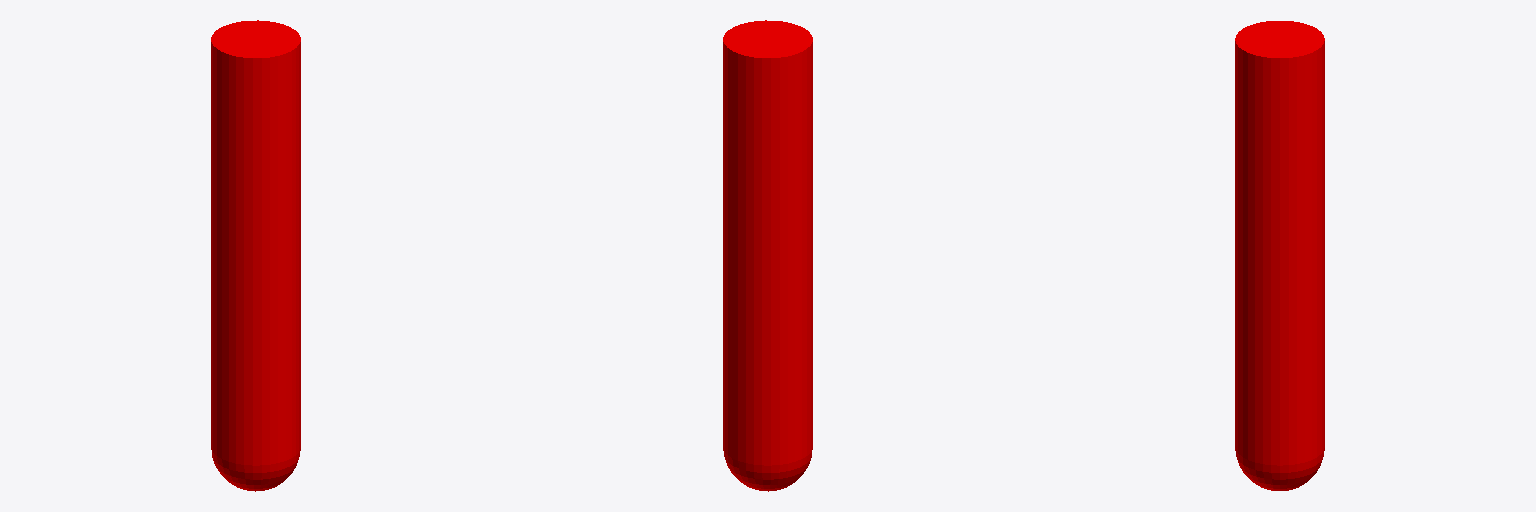
The robot description file, URDF, robot "object":
<?xml version="1.0"?>
<robot name="object">

  <material name="Mat1"><color rgba="1.0 1.0 1.0 1.0"/></material>
  <material name="Mat2"><color rgba="1.0 0 0 1.0"/></material>

  <link name="object">
    <visual>
      <origin xyz="0 0 0"/>
      <geometry>
        <cylinder length="0.01" radius="0.001"/>
      </geometry>
      <material name="Mat2"/>
    </visual>
    <collision>
      <origin xyz="0 0 0"/>
      <geometry>
        <cylinder length="0.01" radius="0.001"/>
      </geometry>
    </collision>
     <inertial>
      <mass value="0.5"/>
      <inertia ixx="0.05" ixy="0.0" ixz="0.0" iyy="0.05" iyz="0.0" izz="0.05"/>
    </inertial>
  </link>

   <link name="ball">
    <visual>
      <origin xyz="0 0 -0.005"/>
      <geometry>
        <sphere radius="0.001"/>
      </geometry>
      <material name="Mat2"/>
    </visual>
    <collision>
      <origin xyz="0 0 005"/>
      <geometry>
        <sphere radius="0.001"/>
      </geometry>
    </collision>
    <inertial>
      <mass value="0.5"/>
      <inertia ixx="0.01" ixy="0.0" ixz="0.0" iyy="0.01" iyz="0.0" izz="0.01"/>
    </inertial>
  </link>

    <joint name="base_to_right_leg" type="fixed">
        <parent link="object"/>
        <child link="ball"/>
    </joint>
</robot>

--- What the picture shows (computed from the rendered views, not written in the file) ---
Views: 3 orthographic renders of the robot side by side, from view 1: azimuth 30°, elevation 25°; view 2: azimuth 150°, elevation 25°; view 3: azimuth 270°, elevation 25°.
Model object with 2 links and 1 joints (1 fixed), rooted at object, posed all joints at 0.
Visible links, largest first — view 1: object, ball; view 2: object, ball; view 3: object, ball.
Link boxes in pixels (x1,y1,x2,y2): object: (211,20,300,465); ball: (211,449,300,491); object: (723,20,812,465); ball: (723,449,812,491); object: (1235,21,1324,465); ball: (1235,448,1324,490).
Size in the robot's own frame: 0.002 by 0.002 by 0.011 metres.
Geometry: primitives only (box / cylinder / sphere), no mesh files.